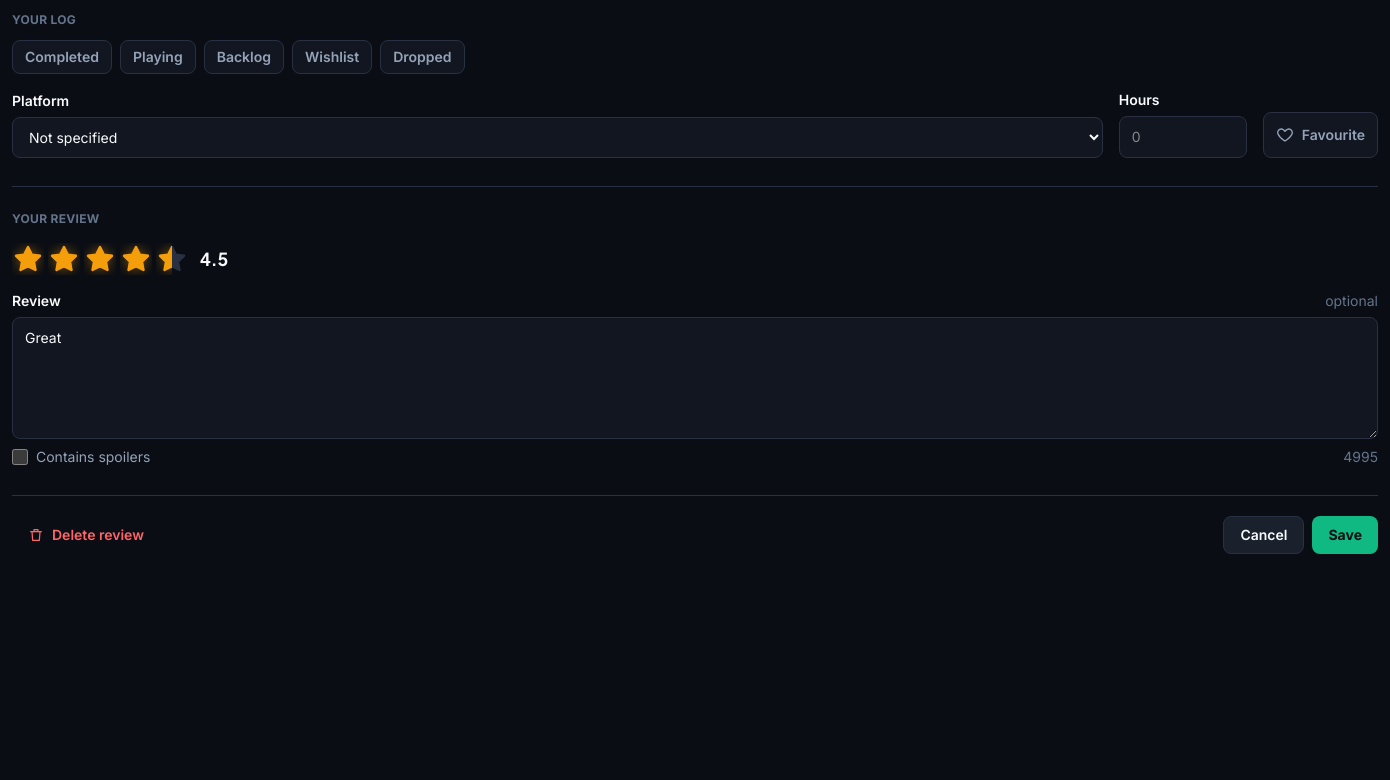
Test: LogGameForm › does not let an existing review lose its rating silently
Click the radio button named "4.5 stars": click(164, 259) [156,243,172,275]
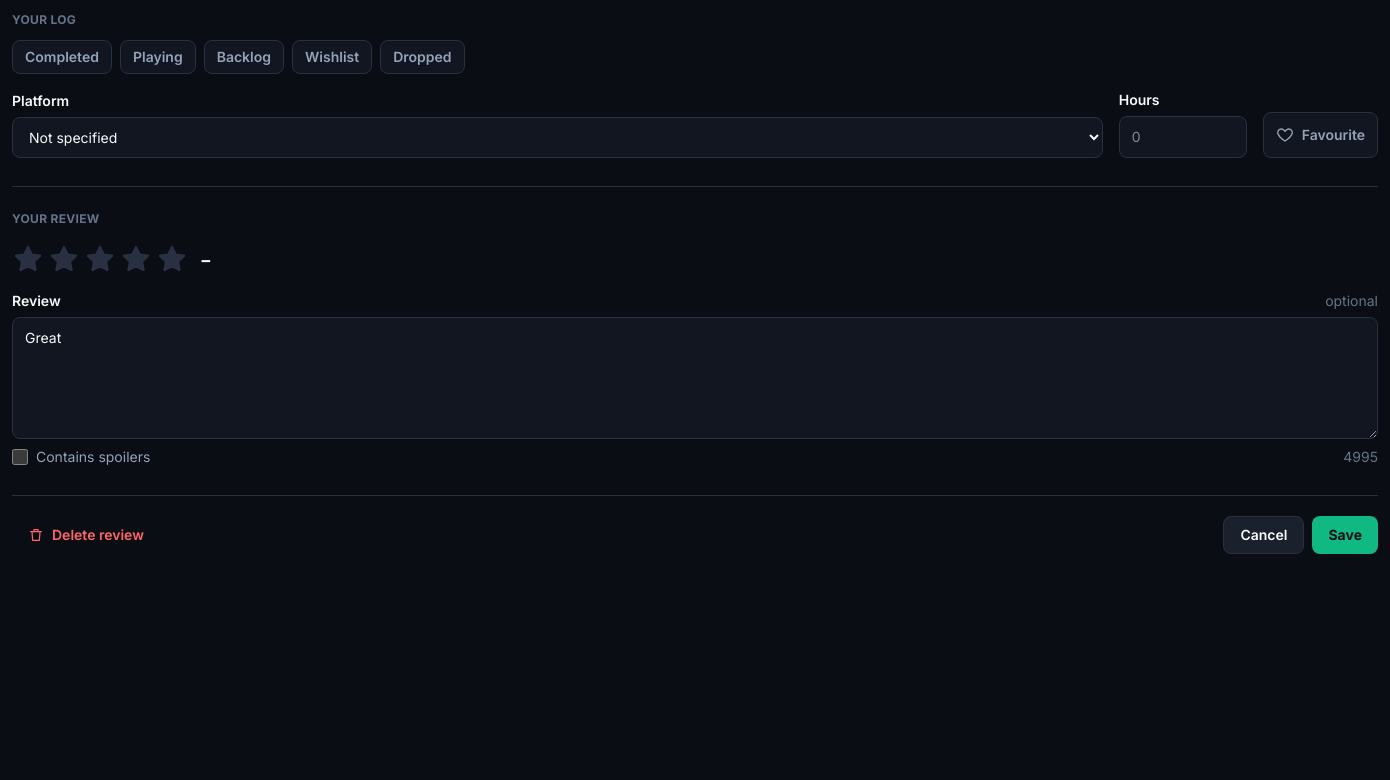
Submit the form
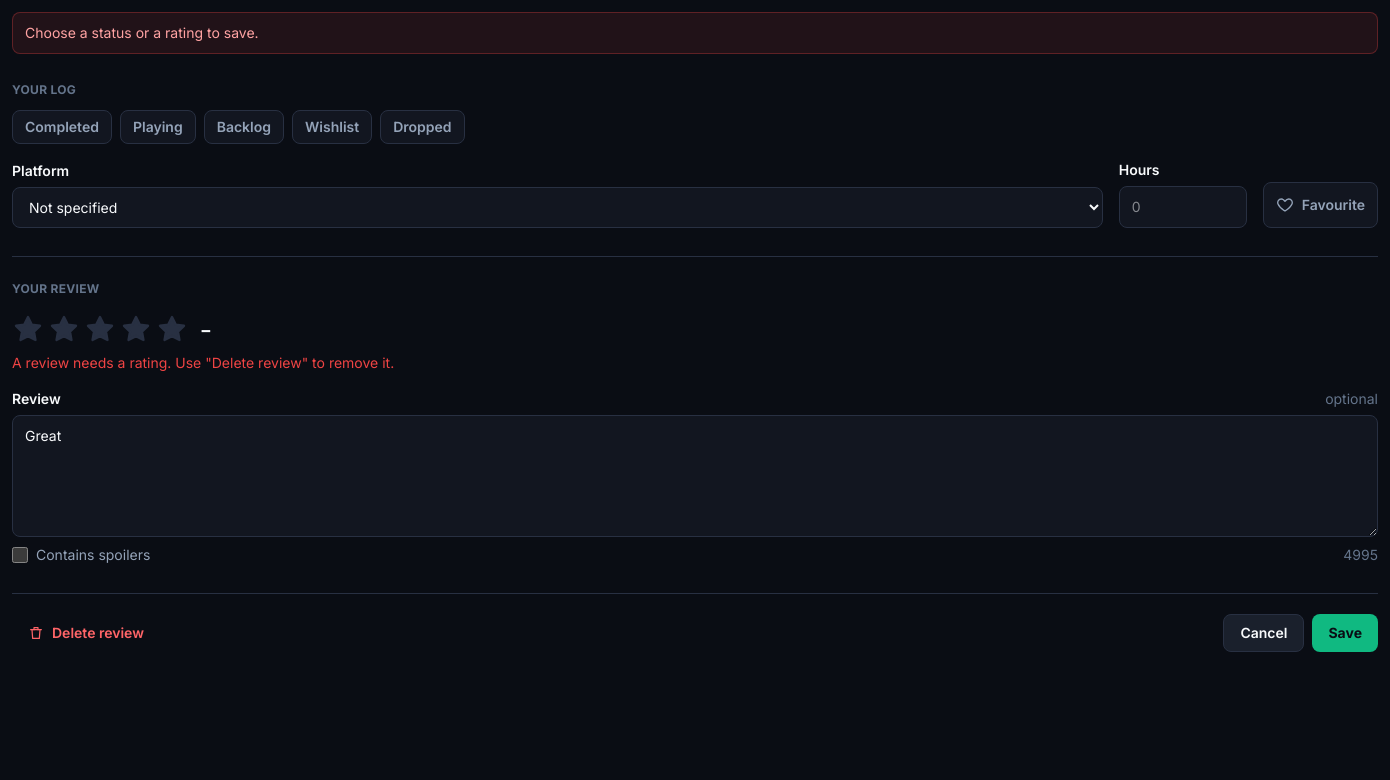
Expected: the message with test id "rating-error" shows "Use \"Delete review\"", [12,354,394,371]
